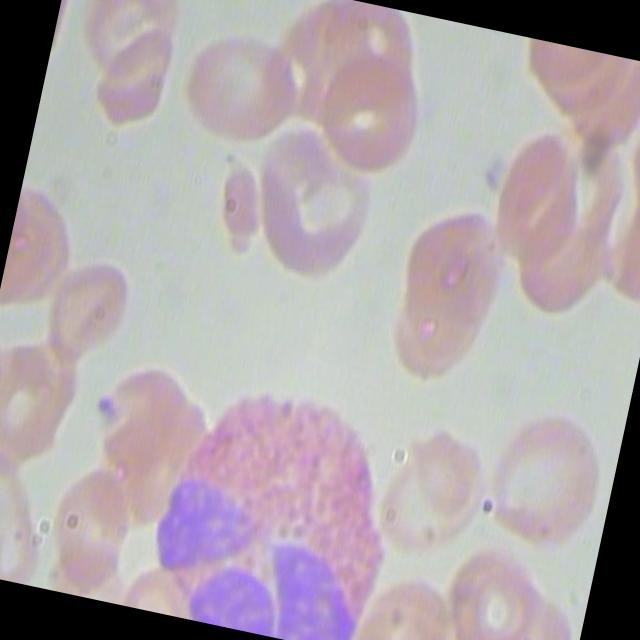RBC: (466, 393, 617, 567), (174, 15, 316, 152), (376, 413, 497, 562), (308, 44, 438, 182), (429, 534, 594, 640), (486, 117, 600, 270), (34, 451, 148, 604), (32, 238, 142, 374), (85, 10, 195, 145)
WBC: (130, 353, 417, 640)
